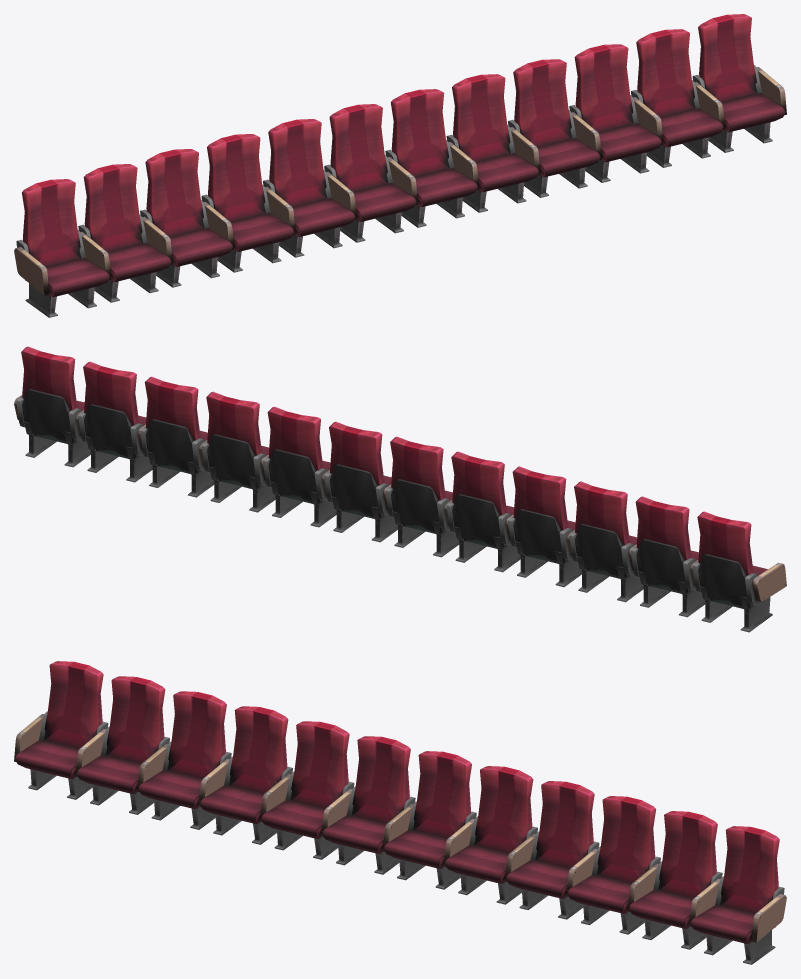
Rendered from CinemaSeats02a.FBX.
3 renders of one model, top to bottom at view 1: azimuth 30°, elevation 25°; view 2: azimuth 150°, elevation 25°; view 3: azimuth 330°, elevation 25°, orthographic.
Visible parts, largest first — view 1: CinemaSeats02a; view 2: CinemaSeats02a; view 3: CinemaSeats02a.
Part boxes in pixels (left/top/right/bottom): CinemaSeats02a: left=14, top=14, right=786, bottom=317; CinemaSeats02a: left=14, top=346, right=786, bottom=632; CinemaSeats02a: left=14, top=661, right=786, bottom=964.
Bounding box in the file's own units: 1064 × 149 × 95.73.
